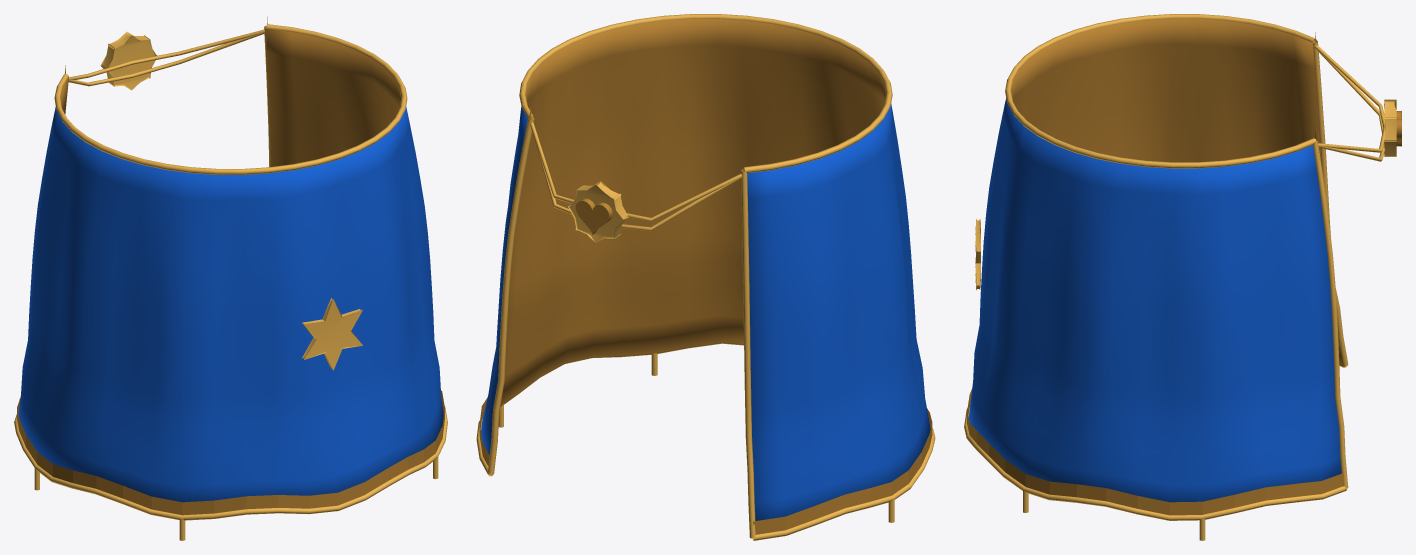
The model's file is royal-capes-rook.glb.
3 views of the same model, side by side, from view 1: azimuth 30°, elevation 25°; view 2: azimuth 150°, elevation 25°; view 3: azimuth 270°, elevation 25° (orthographic). The views are drawn at different scales.
Visible parts, largest first — view 1: tailored_cloth, broad_embroidered_hem, tailored_gold_binding, tailored_gold_binding.001, back_heraldry, brooch_gold, clasp_chain, clasp_chain.001; view 2: tailored_cloth, tailored_gold_binding, broad_embroidered_hem, tailored_gold_binding.003, tailored_gold_binding.002, tailored_gold_binding.001, brooch_gold, clasp_chain, brooch_jewel, clasp_chain.001; view 3: tailored_cloth, broad_embroidered_hem, tailored_gold_binding, tailored_gold_binding.001, tailored_gold_binding.002, tailored_gold_binding.003, clasp_chain, brooch_gold, clasp_chain.001.
Part boxes in pixels (x1,y1,x2,y2): tailored_cloth: (18, 29, 443, 502); broad_embroidered_hem: (17, 390, 444, 515); tailored_gold_binding: (54, 24, 407, 174); tailored_gold_binding.001: (14, 406, 447, 520); back_heraldry: (302, 298, 362, 370); brooch_gold: (100, 32, 157, 90); clasp_chain: (69, 29, 265, 79); clasp_chain.001: (68, 32, 265, 86); tailored_cloth: (481, 19, 930, 520); tailored_gold_binding: (519, 14, 892, 173); broad_embroidered_hem: (479, 397, 932, 534); tailored_gold_binding.003: (741, 169, 755, 538); tailored_gold_binding.002: (487, 118, 534, 474); tailored_gold_binding.001: (476, 342, 935, 540); brooch_gold: (568, 181, 628, 242); clasp_chain: (530, 122, 742, 221); brooch_jewel: (575, 198, 612, 235); clasp_chain.001: (530, 127, 741, 231); tailored_cloth: (968, 18, 1343, 502); broad_embroidered_hem: (967, 388, 1343, 515); tailored_gold_binding: (1005, 14, 1316, 168); tailored_gold_binding.001: (964, 365, 1347, 520); tailored_gold_binding.002: (1313, 140, 1348, 488); tailored_gold_binding.003: (1313, 40, 1348, 366); clasp_chain: (1315, 45, 1385, 152); brooch_gold: (1384, 99, 1396, 156); clasp_chain.001: (1315, 48, 1385, 161).
Bounding box in the file's own units: 0.536 × 0.4998 × 0.5345.
